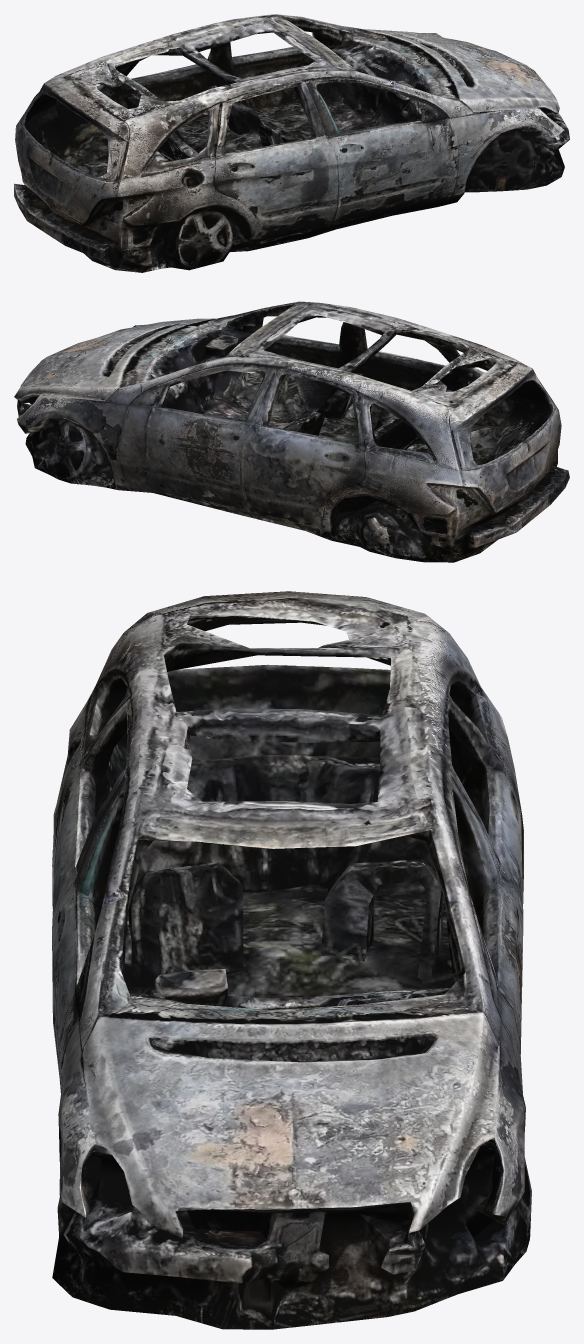
File: car_hatch.glb
The picture shows the model from 3 angles, top to bottom: view 1: azimuth 30°, elevation 25°; view 2: azimuth 150°, elevation 25°; view 3: azimuth 270°, elevation 25°; orthographic projection. The views are drawn at different scales.
Parts seen in each view (by area): view 1: default001_Material #25_0; view 2: default001_Material #25_0; view 3: default001_Material #25_0.
Boxes of the visible parts, x1,y1,x2,y2 form: default001_Material #25_0: [14, 14, 569, 272]; default001_Material #25_0: [14, 301, 569, 562]; default001_Material #25_0: [52, 591, 531, 1329].
Size of the model in its own units: 4.3 by 1.25 by 1.8.
1 material, 1 textured.
